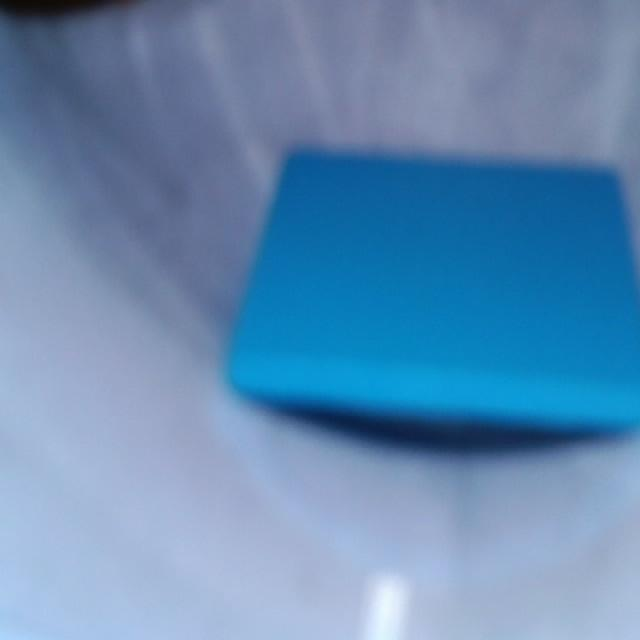square: (229, 151, 639, 429)
